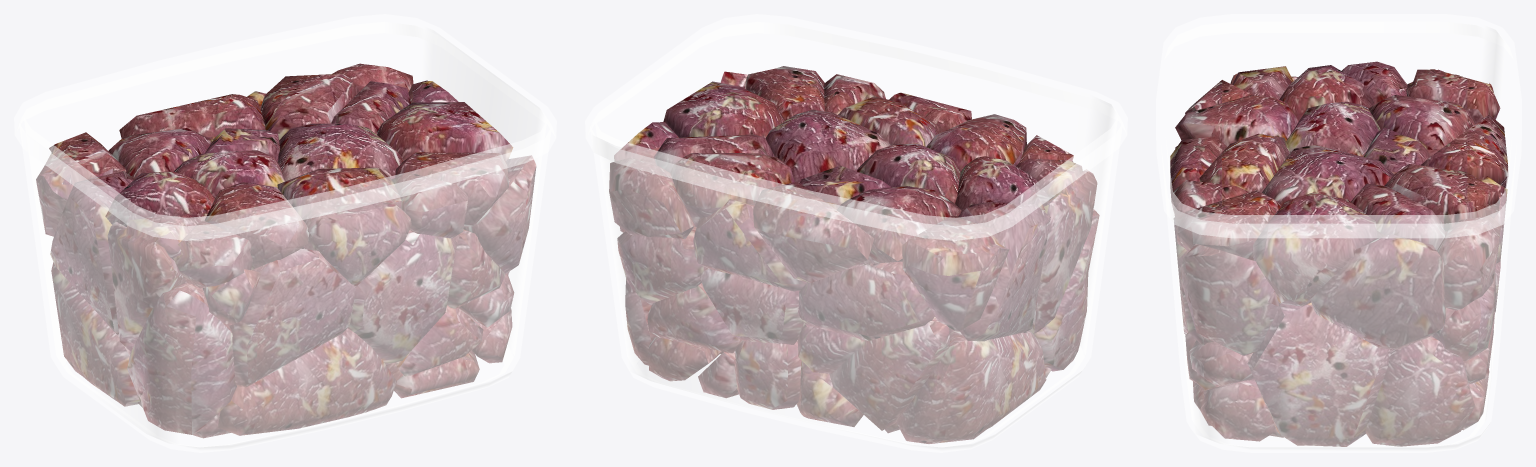
File: Barbecue_Classic.glb
3 renders of one model, left to right at view 1: azimuth 30°, elevation 25°; view 2: azimuth 150°, elevation 25°; view 3: azimuth 270°, elevation 25°, orthographic.
Parts seen in each view (by area): view 1: Barbecue_Classic Tray, Barbecue_Classic; view 2: Barbecue_Classic Tray, Barbecue_Classic; view 3: Barbecue_Classic, Barbecue_Classic Tray.
Part boxes in pixels (x1=…): Barbecue_Classic Tray: x1=14, y1=14, x2=556, y2=452; Barbecue_Classic: x1=36, y1=63, x2=536, y2=438; Barbecue_Classic Tray: x1=585, y1=14, x2=1127, y2=452; Barbecue_Classic: x1=609, y1=66, x2=1099, y2=443; Barbecue_Classic: x1=1170, y1=61, x2=1508, y2=446; Barbecue_Classic Tray: x1=1156, y1=14, x2=1521, y2=452.
Bounding box in the file's own units: 0.1804 × 0.1033 × 0.1356.
2 materials, 1 textured.
